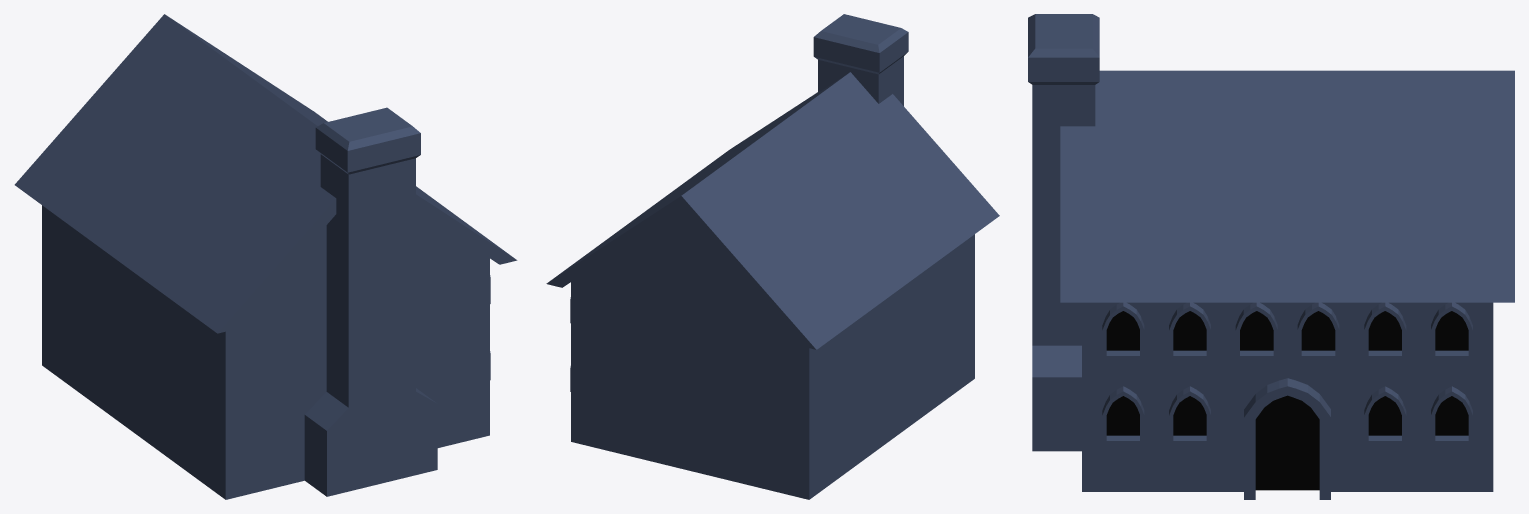
The model's file is barracks02.glb.
3 views of the same model, side by side, from view 1: azimuth 30°, elevation 25°; view 2: azimuth 150°, elevation 25°; view 3: azimuth 270°, elevation 25° (orthographic). The views are drawn at different scales.
Parts seen in each view (by area): view 1: Barracks02; view 2: Barracks02; view 3: Barracks02.
Boxes of the visible parts, bbox=[...] form: Barracks02: bbox=[14, 14, 517, 499]; Barracks02: bbox=[546, 14, 999, 499]; Barracks02: bbox=[1028, 14, 1514, 499].
Bounding box in the file's own units: 1.41 × 1.56 × 1.77.
